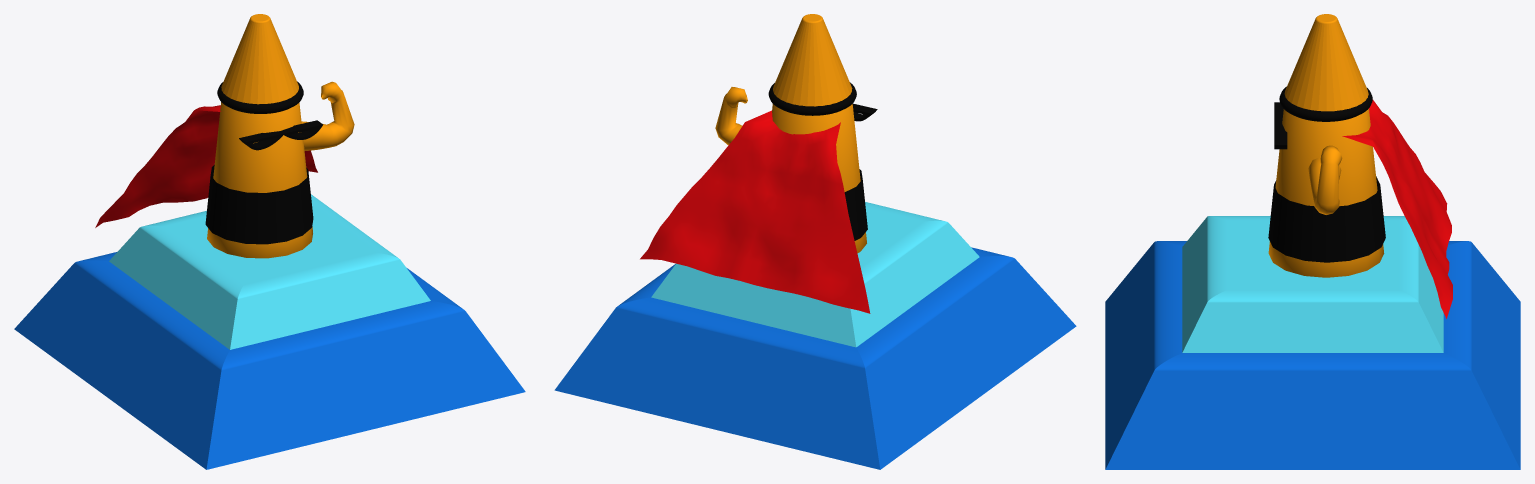
The model's file is crayond.dae.
3 renders of one model, left to right at view 1: azimuth 30°, elevation 25°; view 2: azimuth 150°, elevation 25°; view 3: azimuth 270°, elevation 25°, orthographic. The views are drawn at different scales.
Visible parts, largest first — view 1: Cube.002, Cube.001, Cylinder.004, cape.001, Cylinder.013, Cylinder, Cylinder.005, Curve.029, Torus.003; view 2: Cube.002, cape.001, Cube.001, Cylinder, Cylinder.004, Cylinder.005, Torus.003, Cylinder.013; view 3: Cube.002, Cube.001, Cylinder.004, cape.001, Cylinder.013, Cylinder, Cylinder.005, Torus.003, Curve.029.
Part boxes in pixels (box(x1,y1,x2,y2)): Cube.002: box(14, 252, 525, 469); Cube.001: box(109, 194, 430, 349); Cylinder.004: box(207, 102, 312, 258); cape.001: box(95, 105, 317, 227); Cylinder.013: box(205, 165, 313, 244); Cylinder: box(221, 14, 298, 104); Cylinder.005: box(301, 81, 354, 150); Curve.029: box(239, 120, 322, 150); Torus.003: box(217, 81, 303, 113); Cube.002: box(554, 247, 1076, 469); cape.001: box(640, 110, 870, 313); Cube.001: box(651, 202, 979, 347); Cylinder: box(773, 14, 852, 106); Cylinder.004: box(772, 104, 866, 253); Cylinder.005: box(715, 87, 747, 145); Torus.003: box(768, 82, 856, 115); Cylinder.013: box(844, 169, 867, 240); Cube.002: box(1105, 241, 1520, 469); Cube.001: box(1182, 216, 1443, 352); Cylinder.004: box(1268, 108, 1384, 277); cape.001: box(1342, 100, 1452, 318); Cylinder.013: box(1268, 176, 1385, 262); Cylinder: box(1284, 14, 1368, 111); Cylinder.005: box(1308, 145, 1342, 214); Torus.003: box(1279, 86, 1372, 121); Curve.029: box(1274, 102, 1287, 149).
Bounding box in the file's own units: 0.6186 × 0.6453 × 0.6275.
